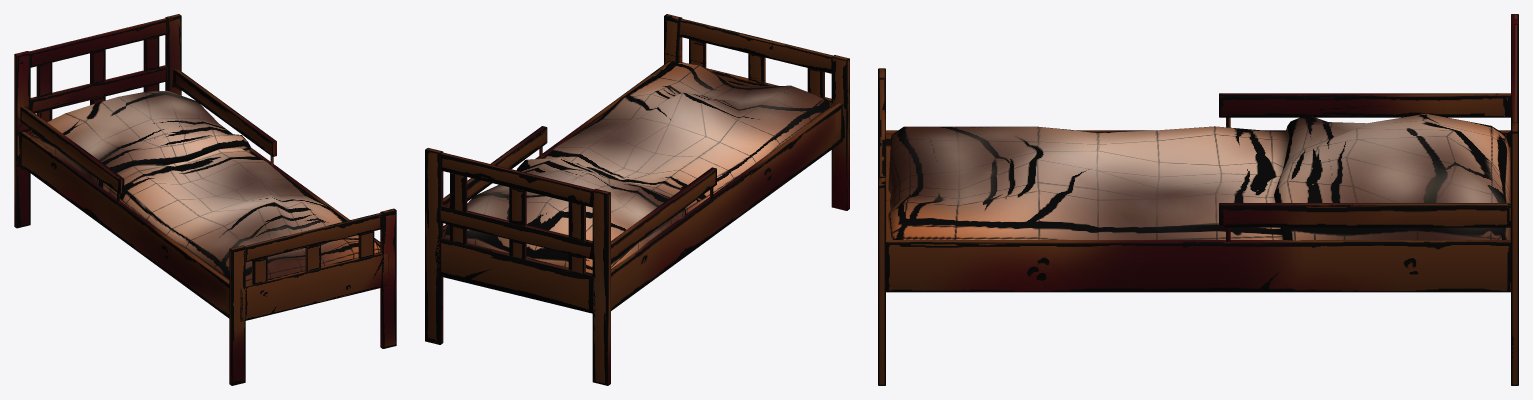
File: bed.glb
The picture shows the model from 3 angles, left to right: view 1: azimuth 30°, elevation 25°; view 2: azimuth 150°, elevation 25°; view 3: azimuth 270°, elevation 25°; orthographic projection. The views are drawn at different scales.
Visible parts, largest first — view 1: huitugou_2062_813, huitugou_2062_812; view 2: huitugou_2062_813, huitugou_2062_812; view 3: huitugou_2062_812, huitugou_2062_813.
Part boxes in pixels (x1,y1,x2,y2): huitugou_2062_813: (14,14,396,385); huitugou_2062_812: (31,90,380,284); huitugou_2062_813: (425,14,849,385); huitugou_2062_812: (444,61,834,273); huitugou_2062_812: (887,113,1510,240); huitugou_2062_813: (878,14,1518,385).
Bounding box in the file's own units: 0.7 × 0.7 × 1.6.
2 materials, 2 textured.
